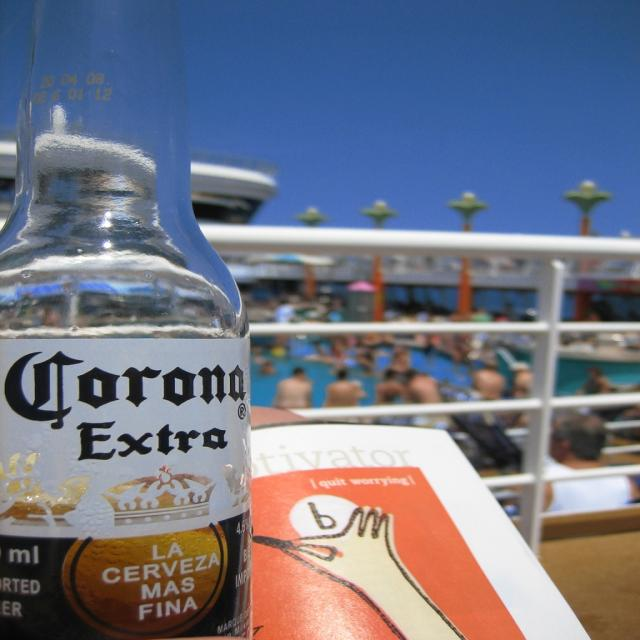corona: (2, 339, 254, 640)
